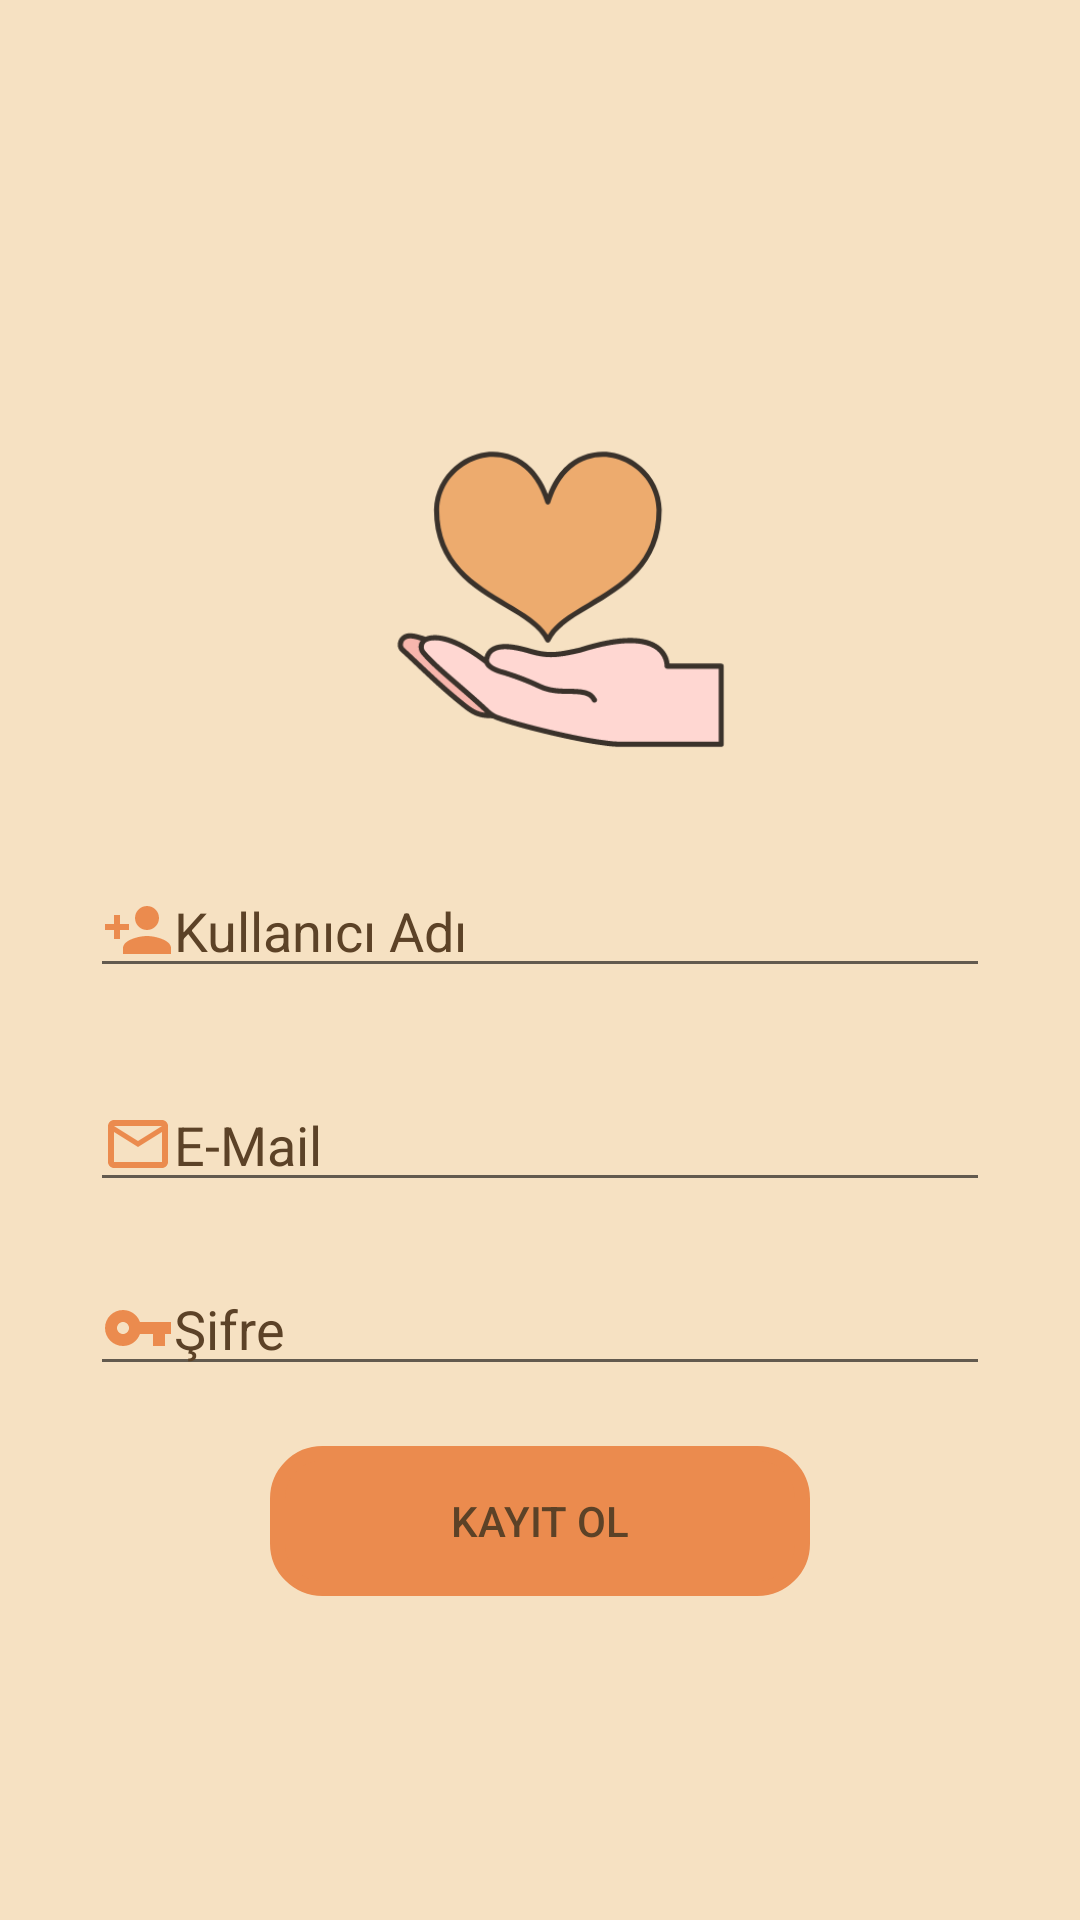

Icons on this 1080*1920 Android screen, each with the point to tap as (x=x, y=y):
donaterman: (x=560, y=599)
